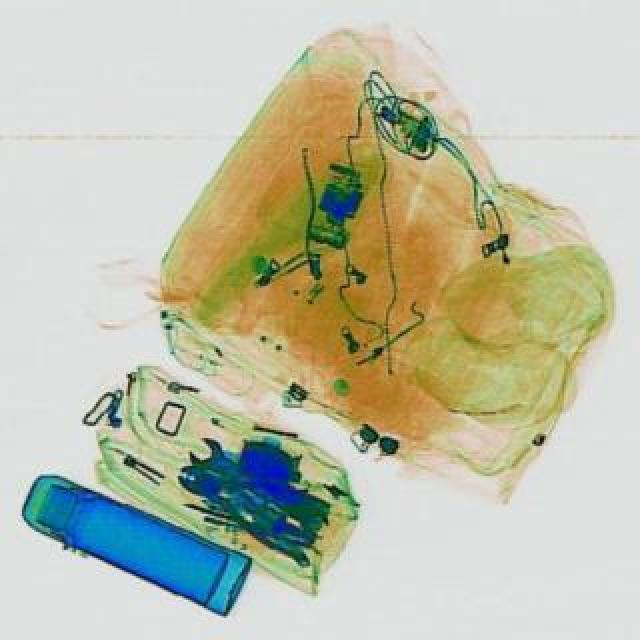scissors: (178, 428, 298, 516)
wrench: (168, 438, 336, 568)
